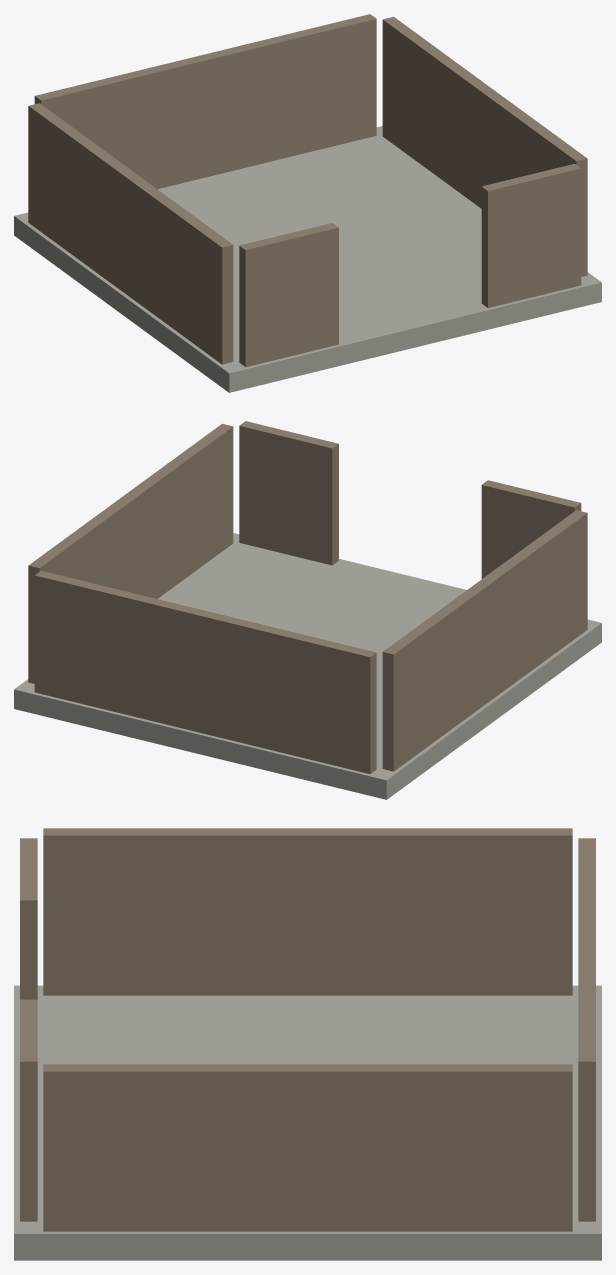
File: passage-end.glb
The picture shows the model from 3 angles, top to bottom: view 1: azimuth 30°, elevation 25°; view 2: azimuth 150°, elevation 25°; view 3: azimuth 270°, elevation 25°; orthographic projection. The views are drawn at different scales.
Parts seen in each view (by area): view 1: end_floor, end_N_panel_0, end_W_panel_0, end_E_panel_0, end_S_panel_1, end_S_panel_0; view 2: end_N_panel_0, end_floor, end_W_panel_0, end_E_panel_0, end_S_panel_1, end_S_panel_0; view 3: end_E_panel_0, end_W_panel_0, end_floor, end_N_panel_0, end_S_panel_1, end_S_panel_0.
Part boxes in pixels (x1,y1,x2,y2): end_floor: (14, 126, 601, 392); end_N_panel_0: (34, 14, 376, 189); end_W_panel_0: (28, 103, 233, 364); end_E_panel_0: (382, 16, 587, 276); end_S_panel_1: (481, 163, 581, 307); end_S_panel_0: (239, 223, 338, 367); end_N_panel_0: (34, 570, 376, 774); end_floor: (14, 533, 601, 799); end_W_panel_0: (382, 510, 587, 771); end_E_panel_0: (28, 423, 233, 683); end_S_panel_1: (239, 421, 338, 565); end_S_panel_0: (481, 480, 581, 578); end_E_panel_0: (43, 1064, 572, 1231); end_W_panel_0: (43, 828, 572, 995); end_floor: (14, 985, 601, 1260); end_N_panel_0: (578, 838, 595, 1221); end_S_panel_1: (20, 999, 37, 1221); end_S_panel_0: (20, 838, 37, 999).
Size of the model in its own units: 4 by 1.4 by 4.
